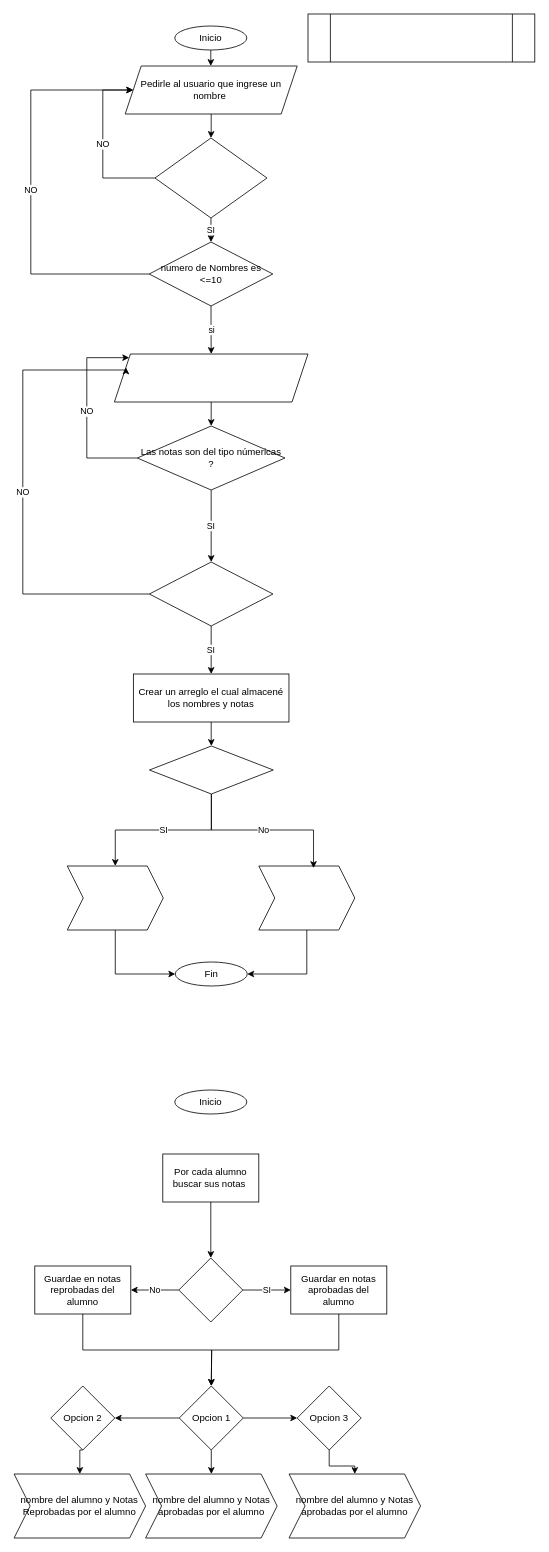
Some shapes in this 549 by 1552 pixel diagram are drawn without their labels. The centre of each missing label's shape, as x and y in pixels:
"Aprobado": (x=114, y=897)
"Reprobado: (x=306, y=897)
Diagrama general: (x=421, y=37)
El nombre es del tipo string o tipo texto: (x=210, y=177)
La nota es >= 65: (x=211, y=769)
Notas >= 65: (x=210, y=1289)
Numero de notas es <=10: (x=211, y=593)
Pedirle al usuario que ingrese una nota: (x=211, y=377)
